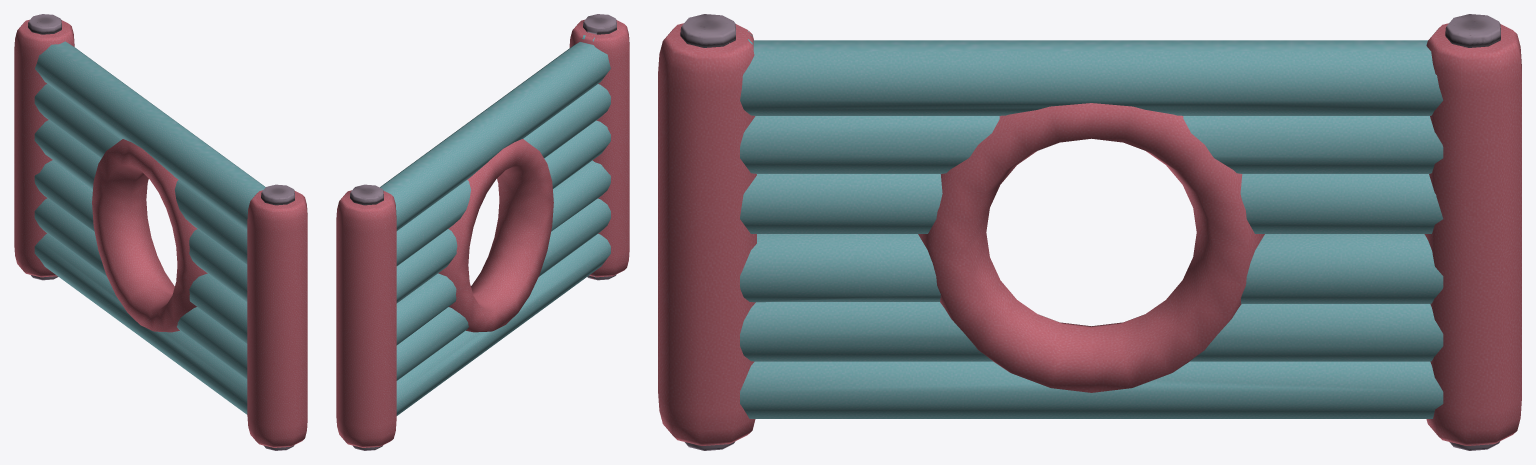
The model's file is OBS0110304.fbx.
The picture shows the model from 3 angles, left to right: view 1: azimuth 30°, elevation 25°; view 2: azimuth 150°, elevation 25°; view 3: azimuth 270°, elevation 25°; orthographic projection. The views are drawn at different scales.
Visible parts, largest first — view 1: smOBS0110304; view 2: smOBS0110304; view 3: smOBS0110304.
Part boxes in pixels (bbox=[...]): smOBS0110304: bbox=[14, 14, 307, 450]; smOBS0110304: bbox=[336, 14, 629, 450]; smOBS0110304: bbox=[658, 14, 1521, 450].
Bounding box in the file's own units: 21.17 × 96.51 × 182.
Materials: 1 (1 with a texture image).
